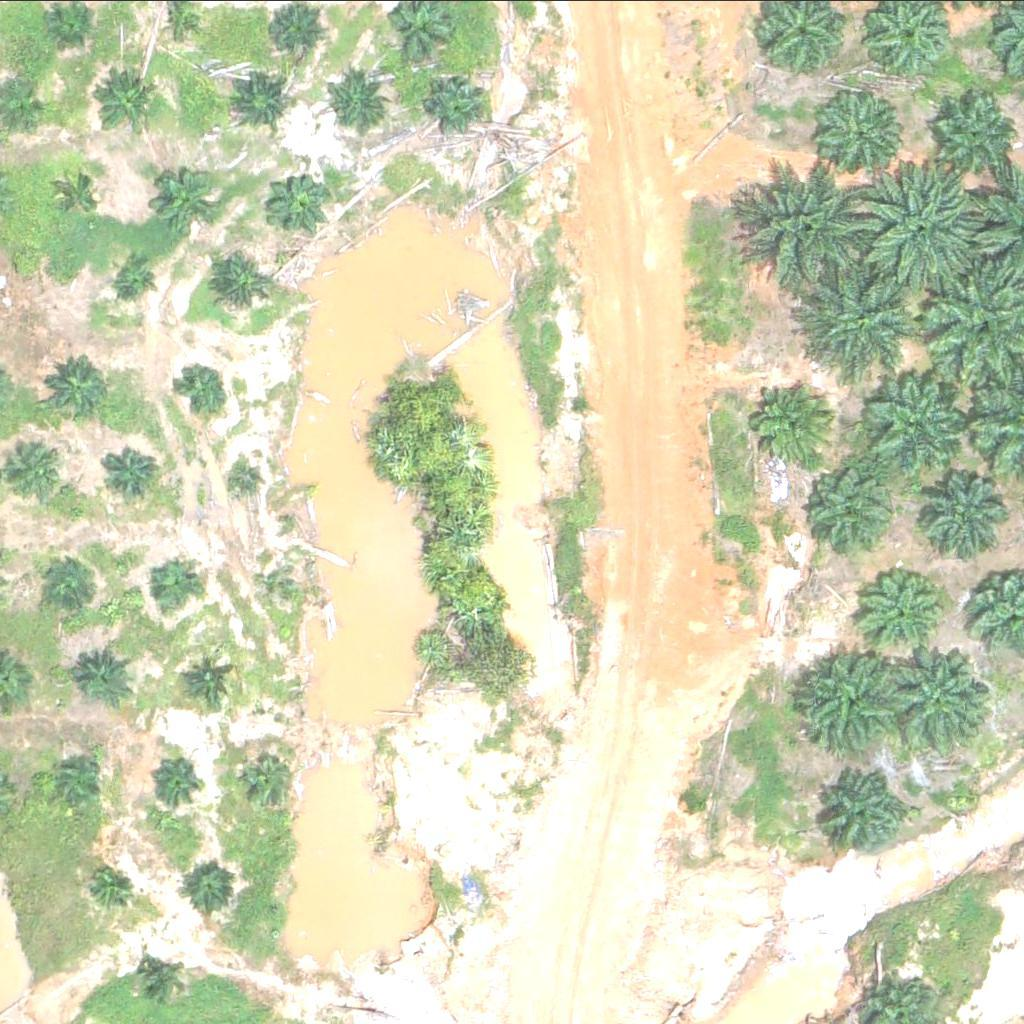Kelapa_Sawit: (738, 161, 864, 286), (859, 166, 985, 291), (794, 252, 920, 377), (866, 370, 967, 470), (890, 647, 991, 747), (797, 651, 898, 751), (807, 83, 907, 183), (807, 460, 895, 548), (862, 567, 950, 655), (822, 768, 910, 856), (750, 381, 838, 468), (926, 467, 1014, 554), (154, 171, 217, 234), (77, 646, 140, 709), (331, 74, 394, 137), (263, 175, 326, 238), (428, 75, 491, 138), (95, 73, 158, 135), (43, 356, 106, 418), (6, 438, 69, 500), (208, 253, 271, 315), (233, 68, 295, 130), (261, 1, 323, 63), (144, 561, 195, 611), (45, 557, 96, 607), (50, 754, 101, 804), (148, 754, 199, 804), (187, 654, 238, 704), (110, 446, 160, 496), (177, 365, 227, 415), (1, 86, 51, 136), (188, 863, 238, 913), (57, 169, 107, 219), (114, 254, 164, 304), (249, 752, 299, 802), (84, 860, 134, 910), (140, 951, 190, 1001), (230, 465, 255, 490), (7, 255, 32, 280), (264, 560, 289, 585)
